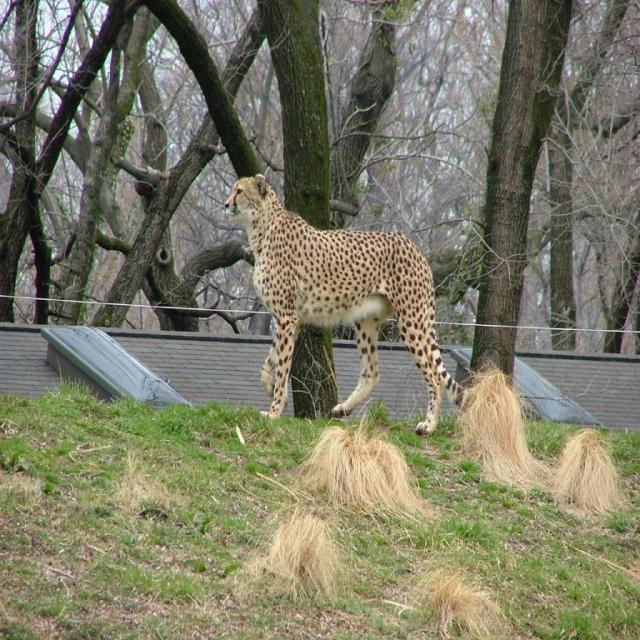Cheetah: (224, 173, 476, 438)
